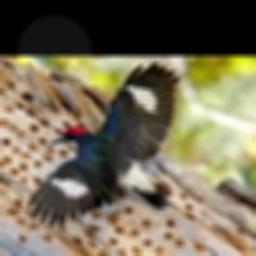Woodpecker: (27, 63, 179, 227)
